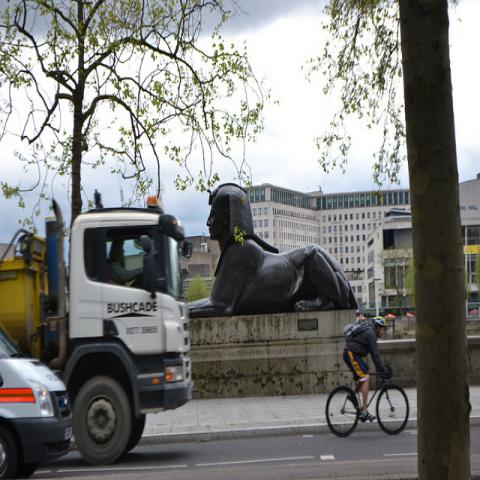car: (0, 325, 73, 479)
truck: (1, 192, 195, 467)
